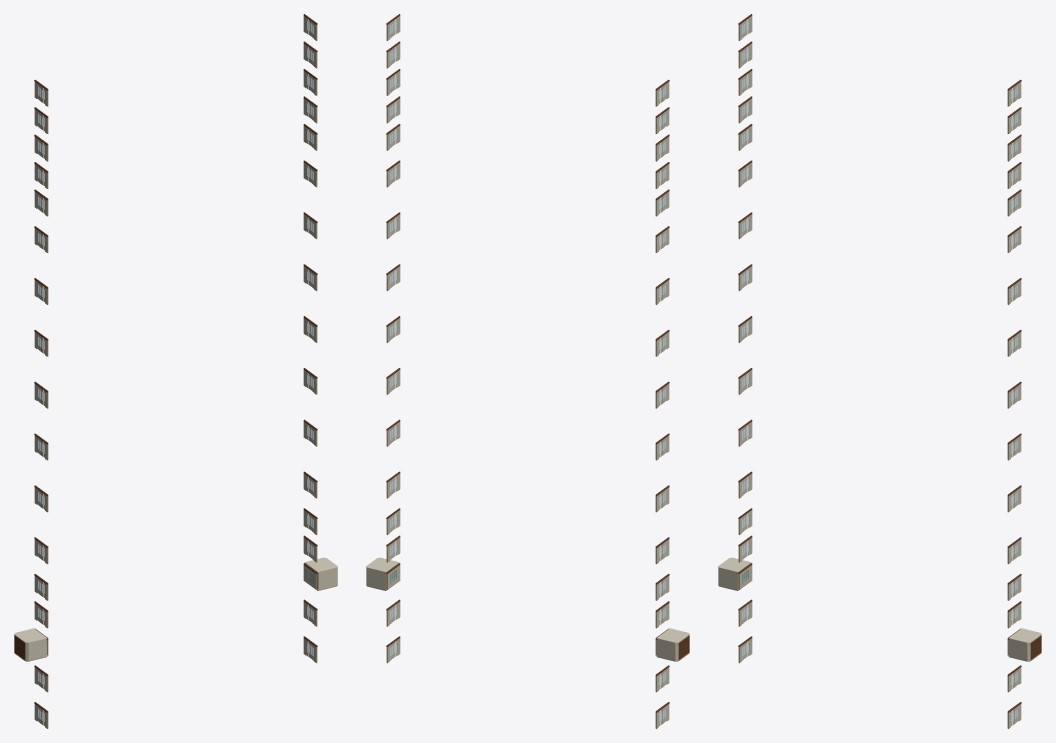
The model's file is AST-STF-G3-036.glb.
3 renders of one model, left to right at view 1: azimuth 30°, elevation 25°; view 2: azimuth 150°, elevation 25°; view 3: azimuth 330°, elevation 25°, orthographic.
Parts seen in each view (by area): view 1: port_service_riser_5__SourceCabinAtD03__CAB_ivory_enamel, starboard_service_riser_5__SourceCabinAtD03__CAB_ivory_ename; view 2: port_service_riser_5__SourceCabinAtD03__CAB_ivory_enamel, starboard_service_riser_5__SourceCabinAtD03__CAB_ivory_ename; view 3: starboard_service_riser_5__SourceCabinAtD03__CAB_ivory_ename, port_service_riser_5__SourceCabinAtD03__CAB_ivory_enamel.
Part boxes in pixels (<box>): port_service_riser_5__SourceCabinAtD03__CAB_ivory_enamel: <box>14,628,47,660</box>; starboard_service_riser_5__SourceCabinAtD03__CAB_ivory_ename: <box>304,557,337,589</box>; port_service_riser_5__SourceCabinAtD03__CAB_ivory_enamel: <box>656,628,689,660</box>; starboard_service_riser_5__SourceCabinAtD03__CAB_ivory_ename: <box>366,557,399,589</box>; starboard_service_riser_5__SourceCabinAtD03__CAB_ivory_ename: <box>1008,628,1041,660</box>; port_service_riser_5__SourceCabinAtD03__CAB_ivory_enamel: <box>718,557,751,589</box>.
Size of the model in its own units: 53.6 by 105 by 4.
Materials: 11 (9 with a texture image).
